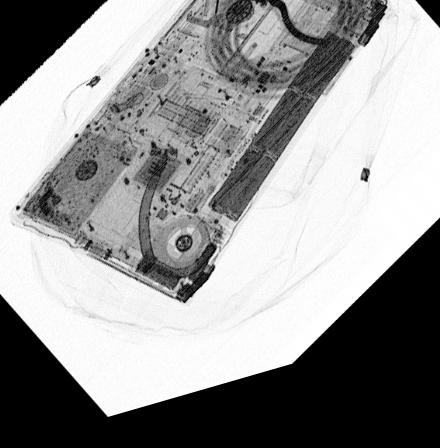Pliers: (229, 0, 363, 66)
